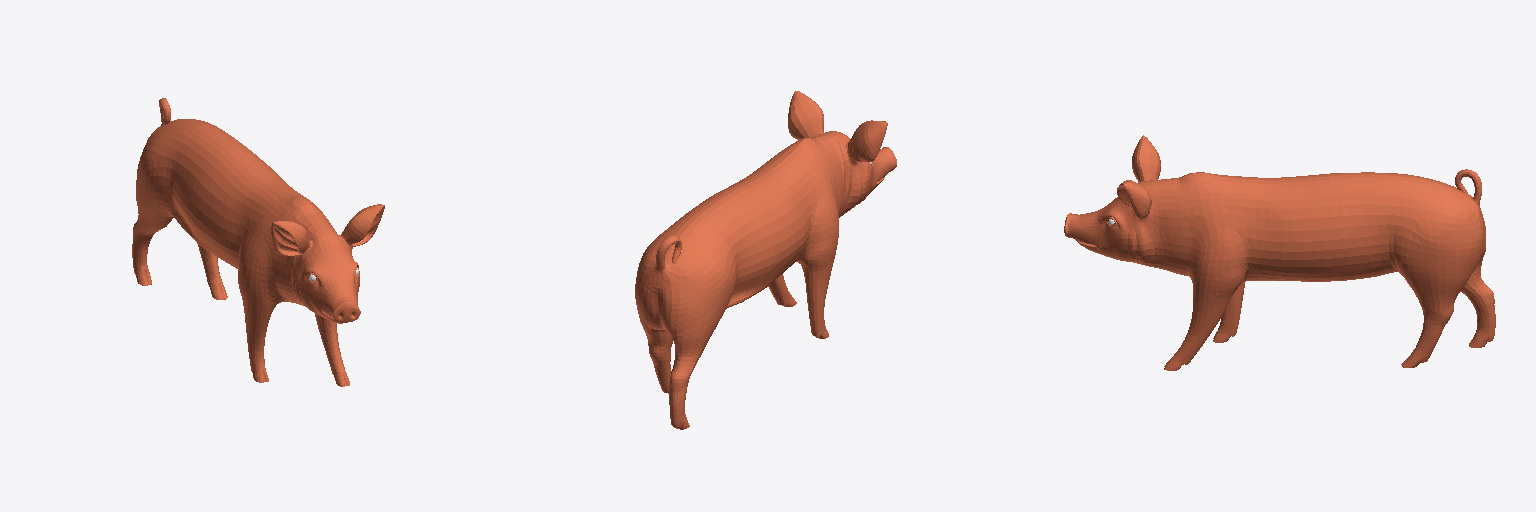
File: sika2.obj
The picture shows the model from 3 angles: view 1: azimuth 30°, elevation 25°; view 2: azimuth 150°, elevation 25°; view 3: azimuth 270°, elevation 25°; orthographic projection.
Visible parts, largest first — view 1: sika2-COM-Pig_Table-200011-Color_B03; view 2: sika2-COM-Pig_Table-200011-Color_B03; view 3: sika2-COM-Pig_Table-200011-Color_B03.
Part boxes in pixels (x1,y1,x2,y2): sika2-COM-Pig_Table-200011-Color_B03: (132, 98, 384, 386); sika2-COM-Pig_Table-200011-Color_B03: (635, 91, 896, 429); sika2-COM-Pig_Table-200011-Color_B03: (1064, 135, 1495, 370).
Bounding box in the file's own units: 0.3849 × 0.6834 × 1.39.